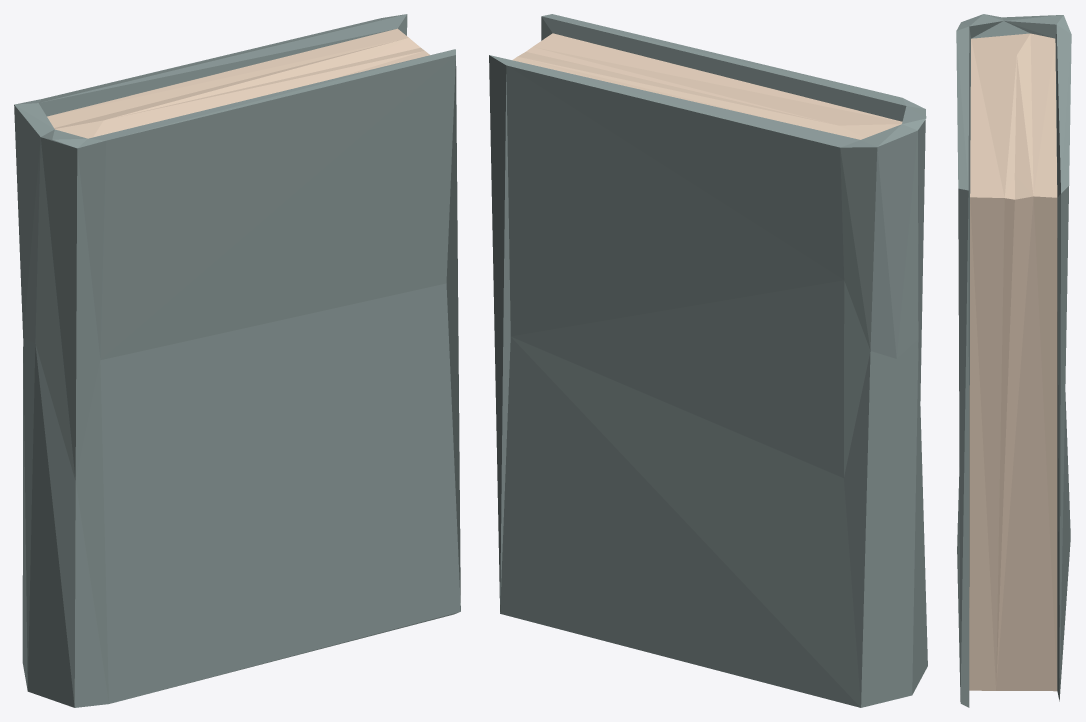
Rendered from SFFA_Book_001.fbx.
3 views of the same model, side by side, from view 1: azimuth 30°, elevation 25°; view 2: azimuth 150°, elevation 25°; view 3: azimuth 270°, elevation 25° (orthographic). The views are drawn at different scales.
Parts seen in each view (by area): view 1: SFFA_Book_001; view 2: SFFA_Book_001; view 3: SFFA_Book_001.
Boxes of the visible parts, x1,y1,x2,y2 form: SFFA_Book_001: (14,14,460,707); SFFA_Book_001: (489,14,927,707); SFFA_Book_001: (956,14,1071,707).
Bounding box in the file's own units: 18.29 × 24.61 × 4.95.
